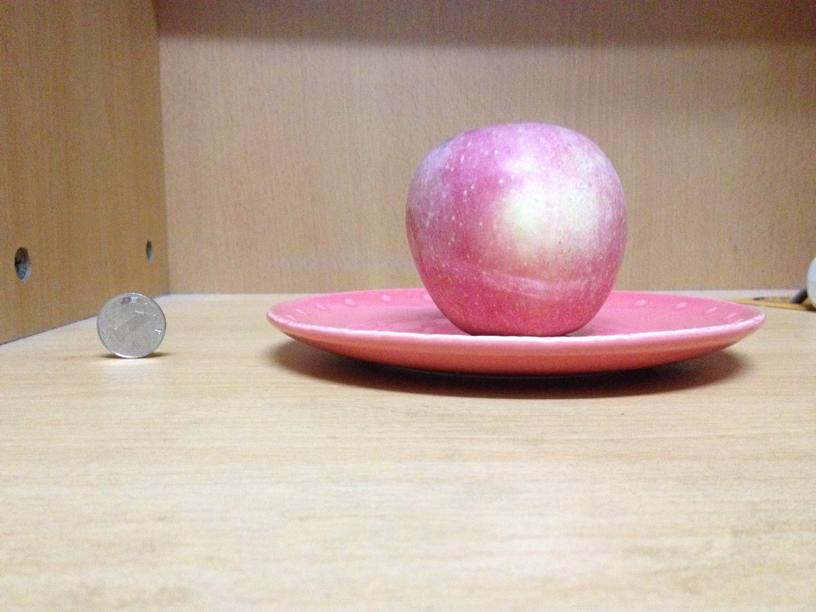apple: (404, 124, 629, 336)
coin: (97, 291, 167, 360)
